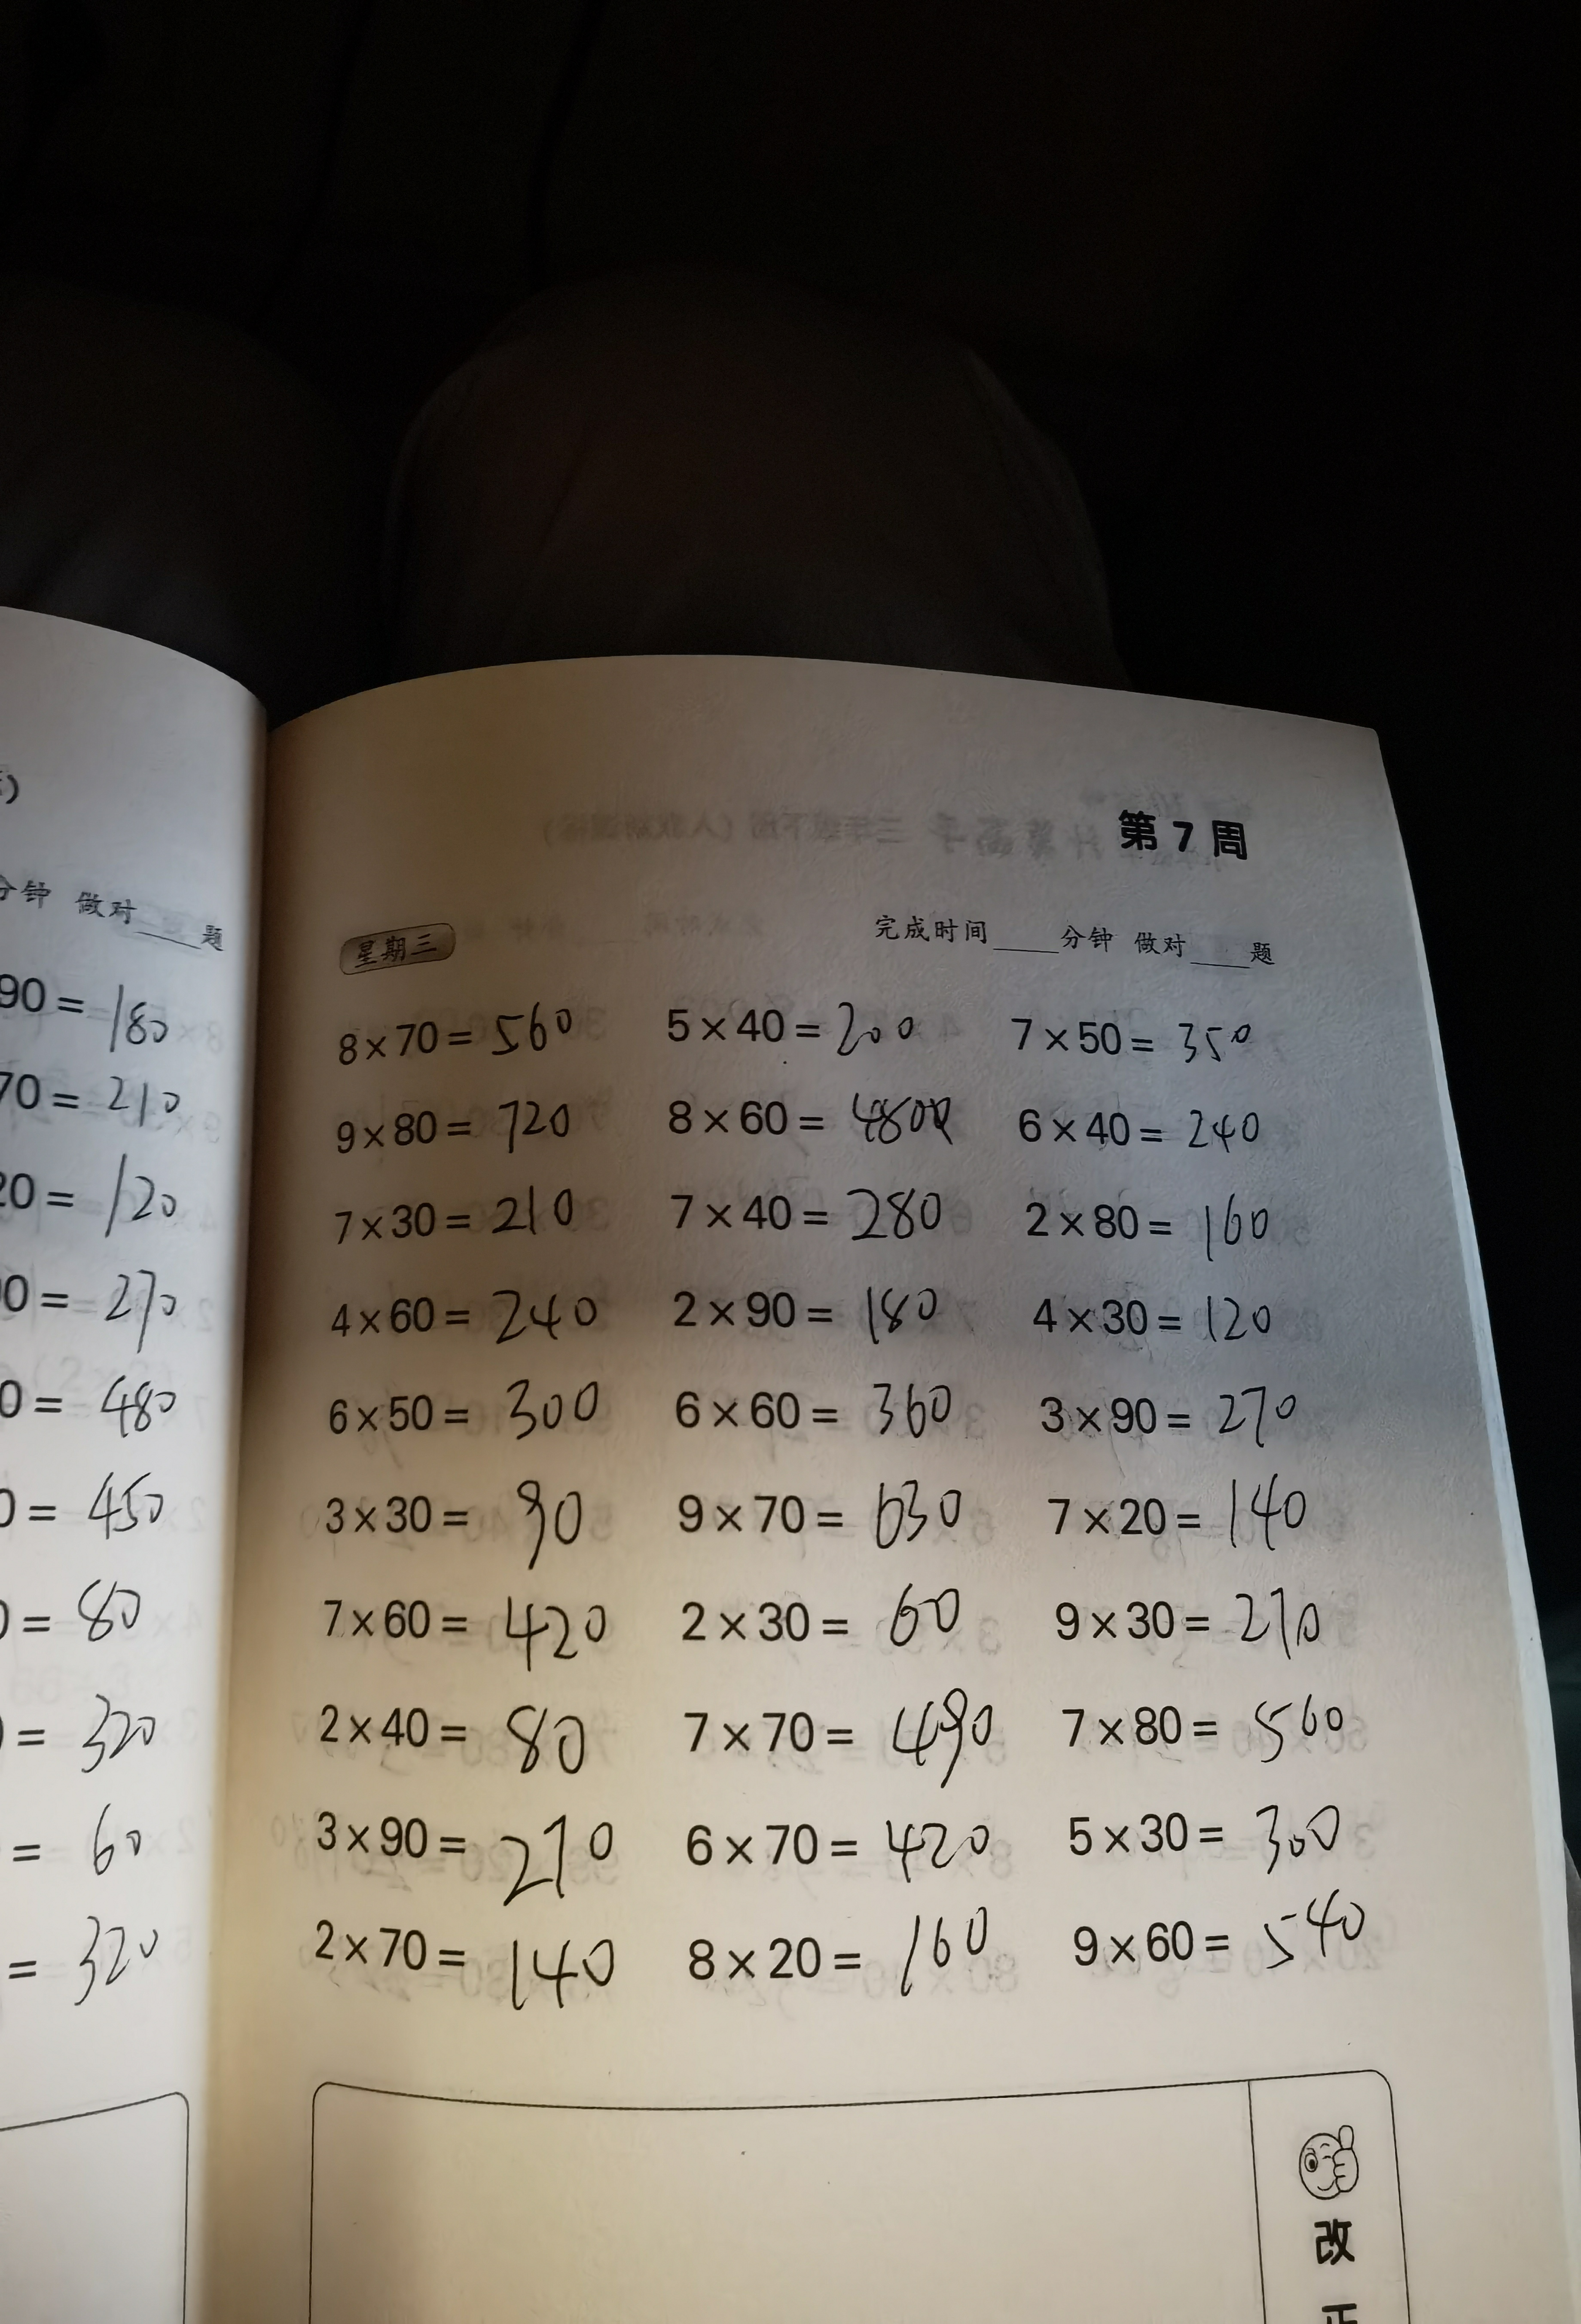equation: (265, 1911, 676, 2049), (685, 1892, 1038, 2008), (295, 1567, 623, 1683), (672, 1691, 1011, 1802), (272, 1803, 626, 1904), (646, 965, 935, 1078), (266, 1466, 646, 1549), (1023, 1357, 1336, 1458), (997, 967, 1272, 1080), (1030, 1572, 1355, 1668), (683, 1560, 993, 1659), (1050, 1680, 1380, 1770), (300, 1382, 642, 1468), (658, 1800, 1022, 1878), (284, 1694, 591, 1786), (335, 1265, 633, 1359), (1066, 1895, 1387, 1982), (1062, 1789, 1394, 1872), (651, 1366, 979, 1447), (1016, 1458, 1313, 1544), (658, 1166, 956, 1249), (1022, 1181, 1304, 1267), (674, 1475, 970, 1555), (648, 1080, 932, 1156), (1009, 1092, 1285, 1170), (319, 1087, 607, 1161), (1027, 1279, 1302, 1355), (658, 1276, 951, 1339), (321, 1186, 596, 1253), (323, 995, 589, 1062)
